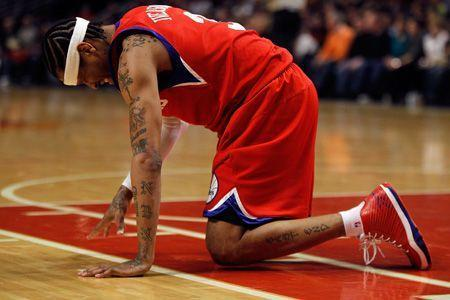fall: (48, 2, 446, 268)
